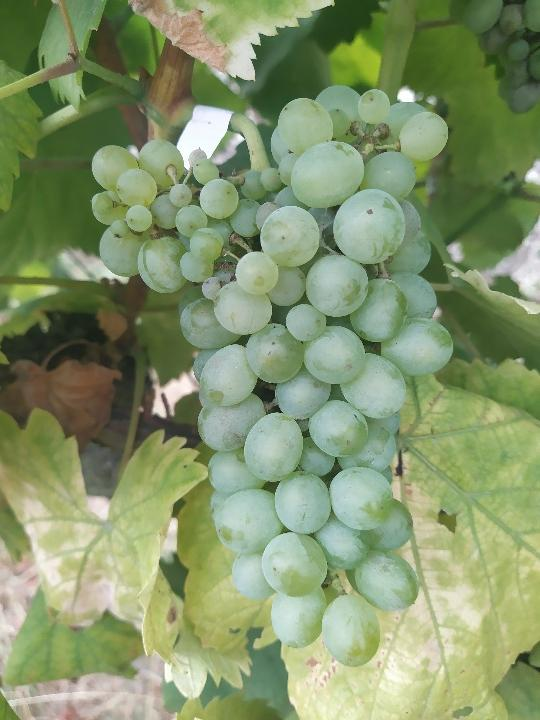grape: (88, 81, 457, 671)
